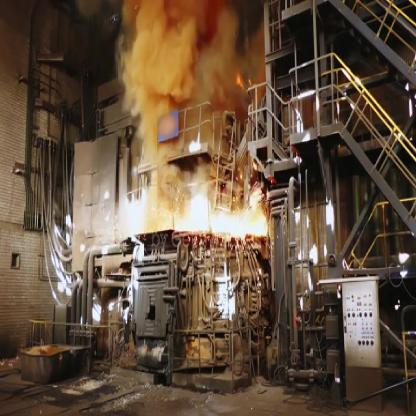fire: (180, 186, 267, 243)
smoke: (117, 5, 266, 235)
